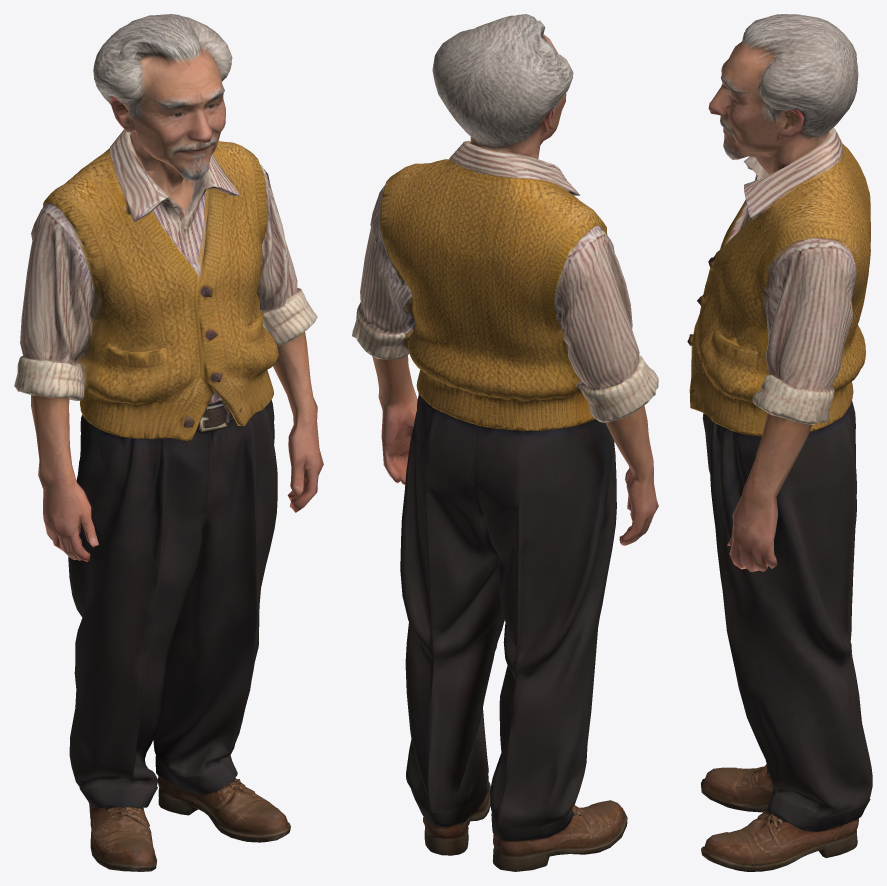
File: arcade.glb
The picture shows the model from 3 angles, left to right: view 1: azimuth 30°, elevation 25°; view 2: azimuth 150°, elevation 25°; view 3: azimuth 270°, elevation 25°; orthographic projection.
Visible parts, largest first — view 1: tripo_node_65287ba7-a8e3-4559-8985-7fd17f29203c, arcade articulation; view 2: tripo_node_65287ba7-a8e3-4559-8985-7fd17f29203c; view 3: tripo_node_65287ba7-a8e3-4559-8985-7fd17f29203c, arcade articulation.
Part boxes in pixels (x1=…): tripo_node_65287ba7-a8e3-4559-8985-7fd17f29203c: x1=14, y1=14, x2=323, y2=871; arcade articulation: x1=123, y1=55, x2=225, y2=189; tripo_node_65287ba7-a8e3-4559-8985-7fd17f29203c: x1=352, y1=14, x2=658, y2=871; tripo_node_65287ba7-a8e3-4559-8985-7fd17f29203c: x1=687, y1=14, x2=872, y2=871; arcade articulation: x1=708, y1=46, x2=778, y2=189.
Size of the model in its own units: 0.3682 by 0.9818 by 0.2034.
2 materials, 1 textured.
